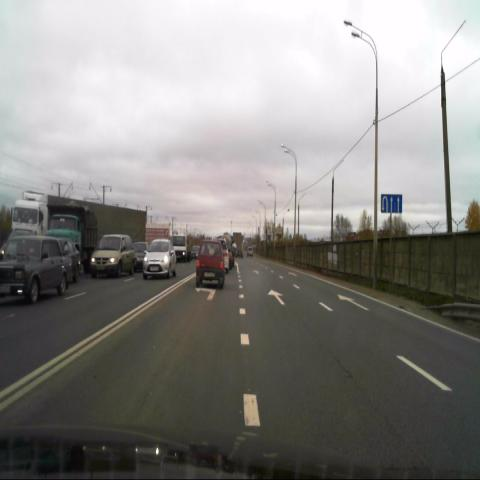5_15_1: (380, 192, 403, 214)
